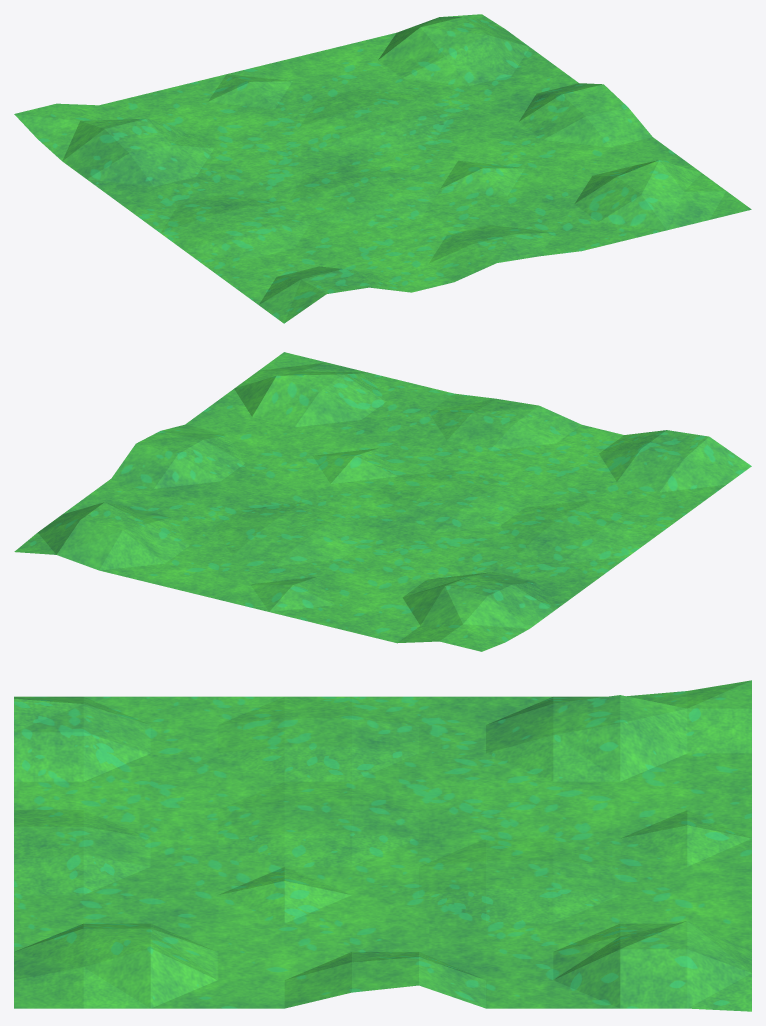
File: Field.obj
The picture shows the model from 3 angles, top to bottom: view 1: azimuth 30°, elevation 25°; view 2: azimuth 150°, elevation 25°; view 3: azimuth 270°, elevation 25°; orthographic projection. The views are drawn at different scales.
Parts seen in each view (by area): view 1: Field; view 2: Field; view 3: Field.
Part boxes in pixels (x1,y1,x2,y2): Field: (14, 14, 751, 323); Field: (14, 352, 751, 651); Field: (14, 680, 751, 1011).
Size of the model in its own units: 20 by 1.05 by 20.
